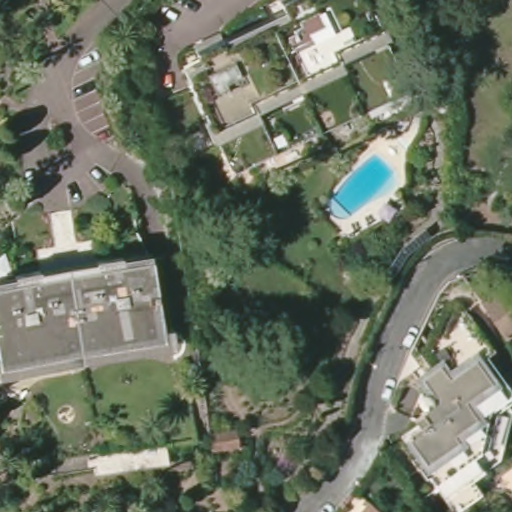pool: (330, 155, 396, 219)
